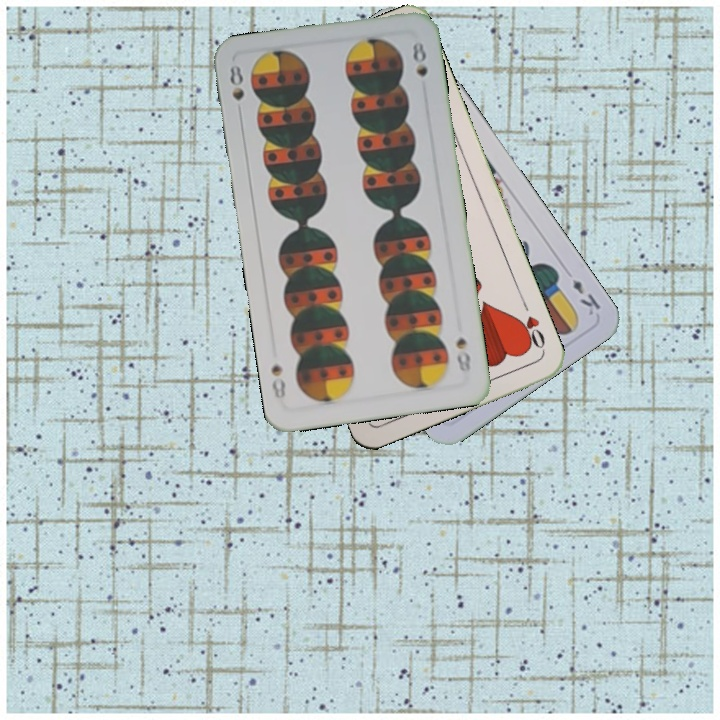EK: (568, 275, 603, 319)
HO: (513, 297, 548, 353)
S8: (225, 60, 247, 103), (452, 333, 473, 375)
